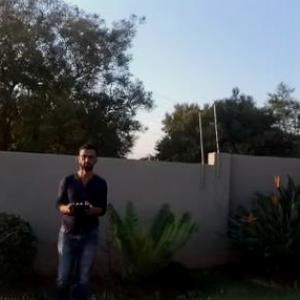follow: (50, 126, 112, 299)
